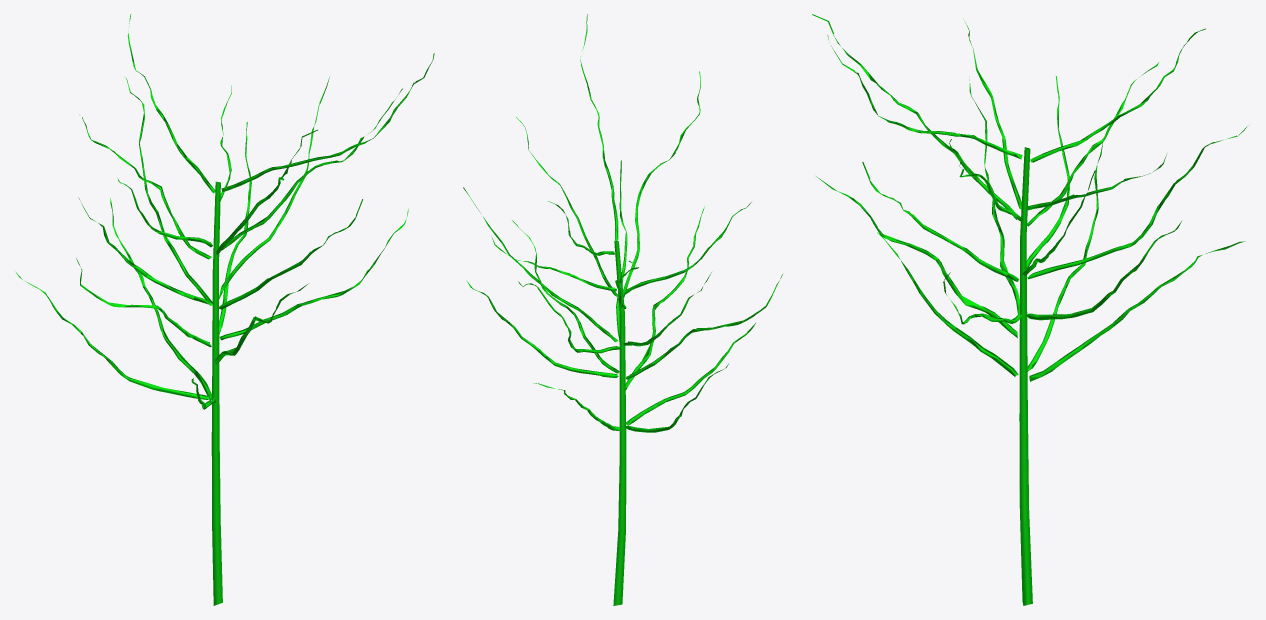
Rendered from LOD3Arbre2.gltf.
3 renders of one model, left to right at view 1: azimuth 30°, elevation 25°; view 2: azimuth 150°, elevation 25°; view 3: azimuth 270°, elevation 25°, orthographic. The views are drawn at different scales.
Parts seen in each view (by area): view 1: polySurface1.001; view 2: polySurface1.001; view 3: polySurface1.001.
Part boxes in pixels (x1=…): polySurface1.001: x1=14, y1=14, x2=434, y2=605; polySurface1.001: x1=463, y1=14, x2=783, y2=605; polySurface1.001: x1=812, y1=14, x2=1247, y2=605.
Bounding box in the file's own units: 12.19 × 21.05 × 13.21.
